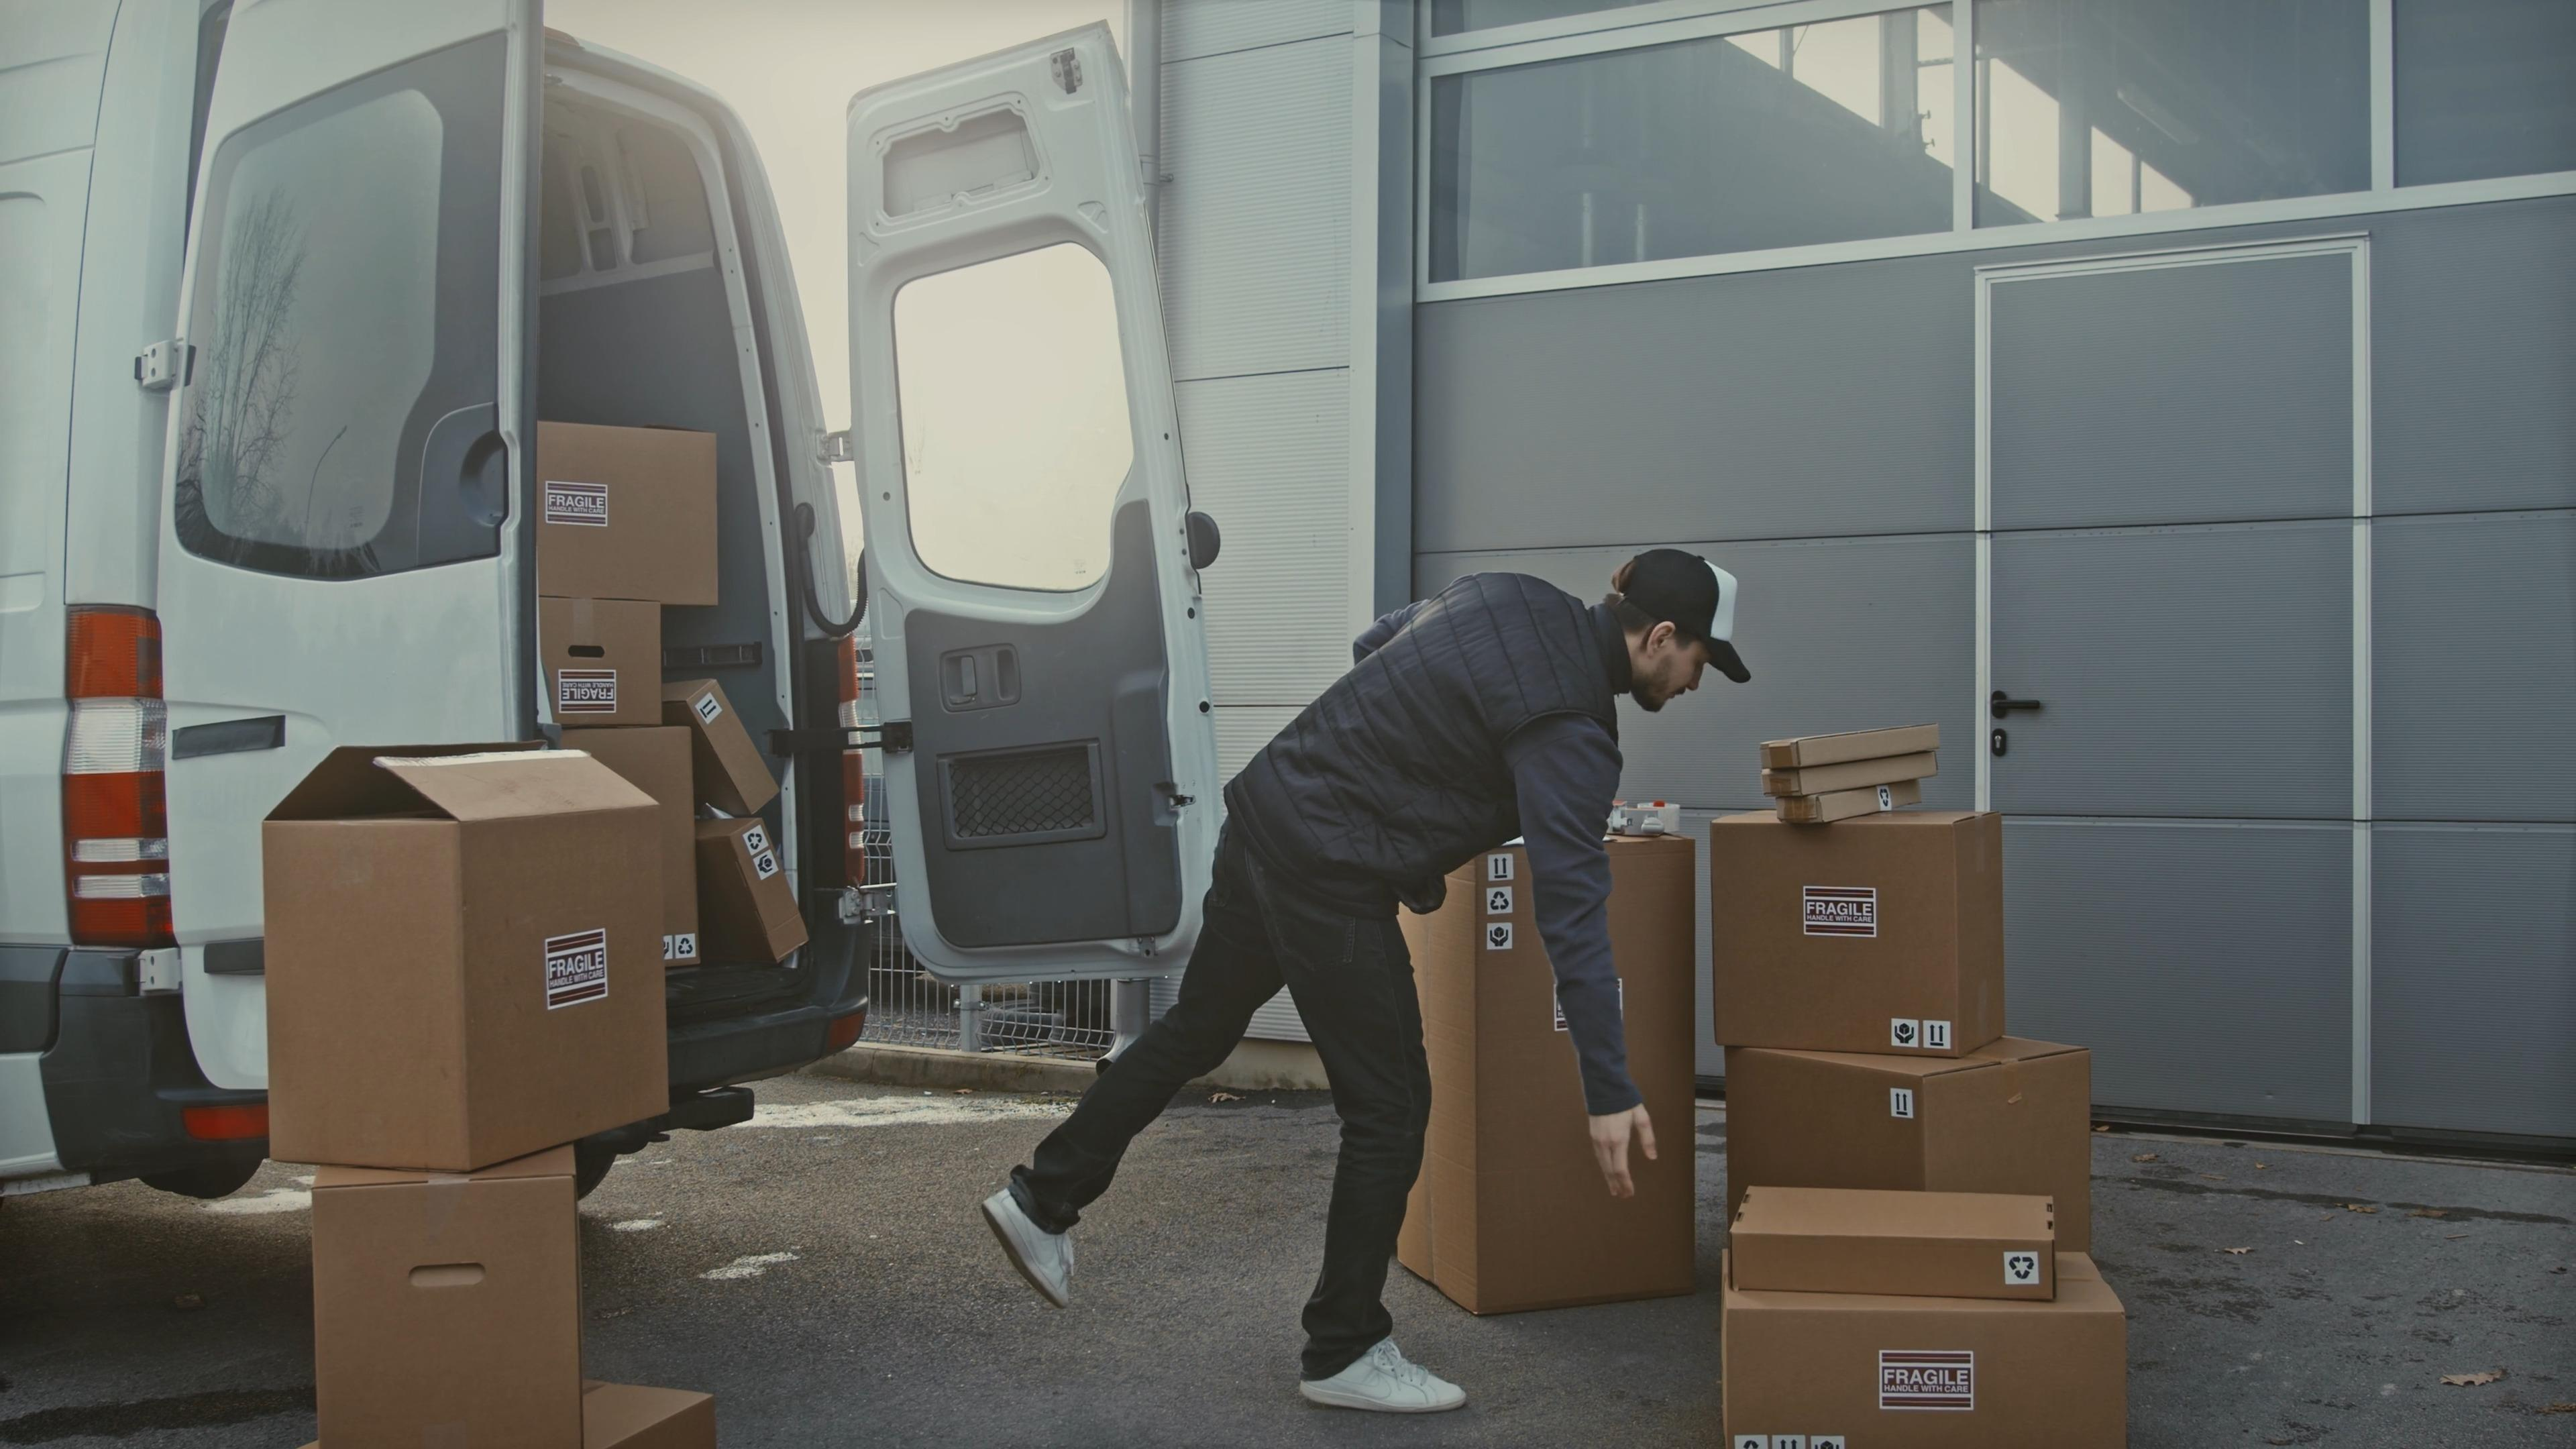-: (253, 736, 676, 1164), (1396, 816, 1690, 1318), (317, 1164, 589, 1447), (1711, 801, 2001, 1058), (1714, 1272, 2120, 1444), (1729, 1047, 2089, 1237), (1736, 1185, 2058, 1297), (534, 419, 724, 602), (527, 609, 651, 732)
